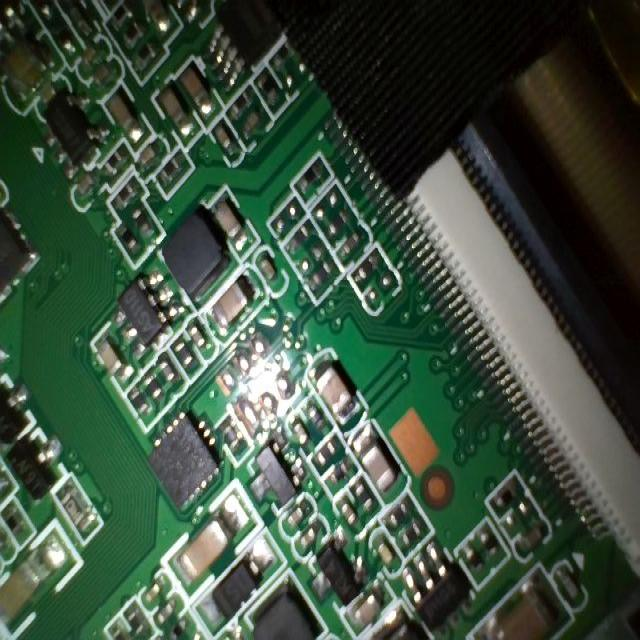capacitor: (177, 476, 248, 597), (200, 262, 265, 354), (308, 344, 366, 444), (362, 422, 407, 514)
